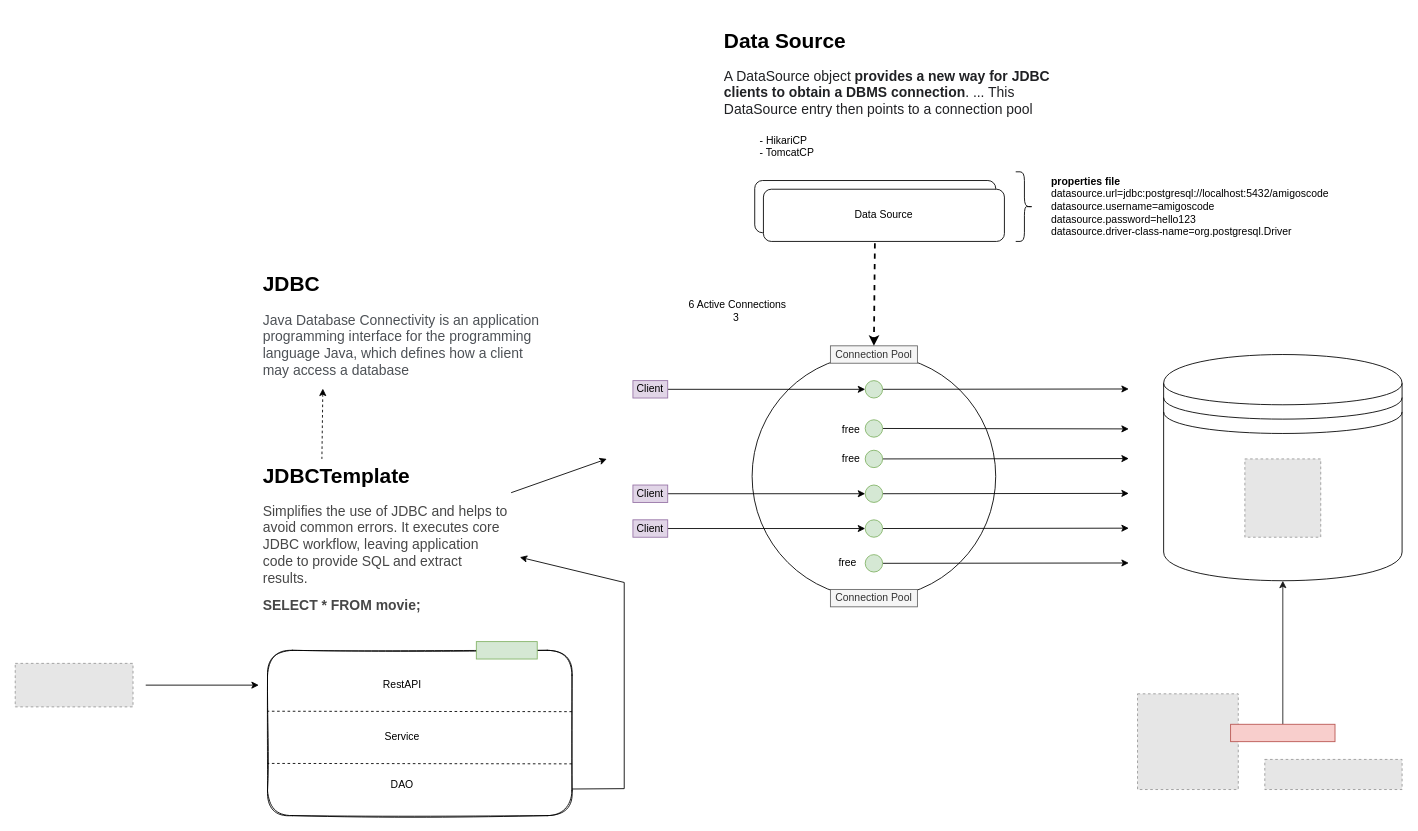
Image size: 1418x831. Some labels were removed from this diagram. Grey dashed boxes stand in for pictures. The shapes that lost their labels are listed below. From the top down, each one's centre as x and y in pixels, then its label:
point 506,650: backend
point 1282,732: Database Migration
